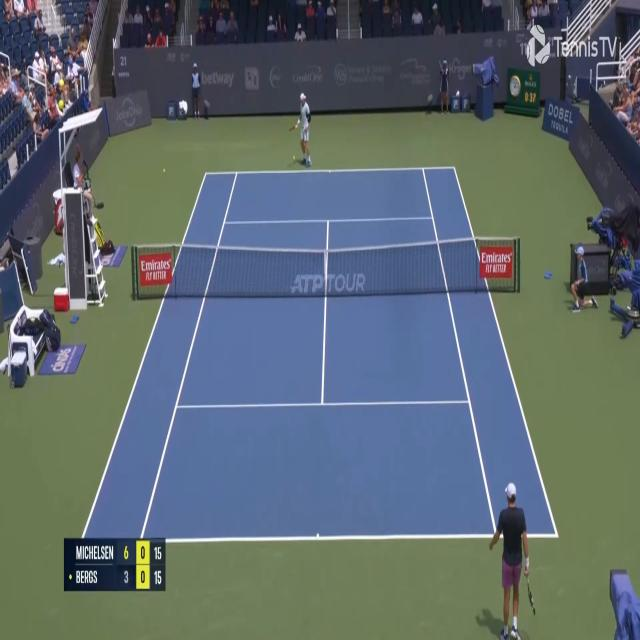tennis-player: (487, 480, 532, 639), (289, 90, 313, 170)
